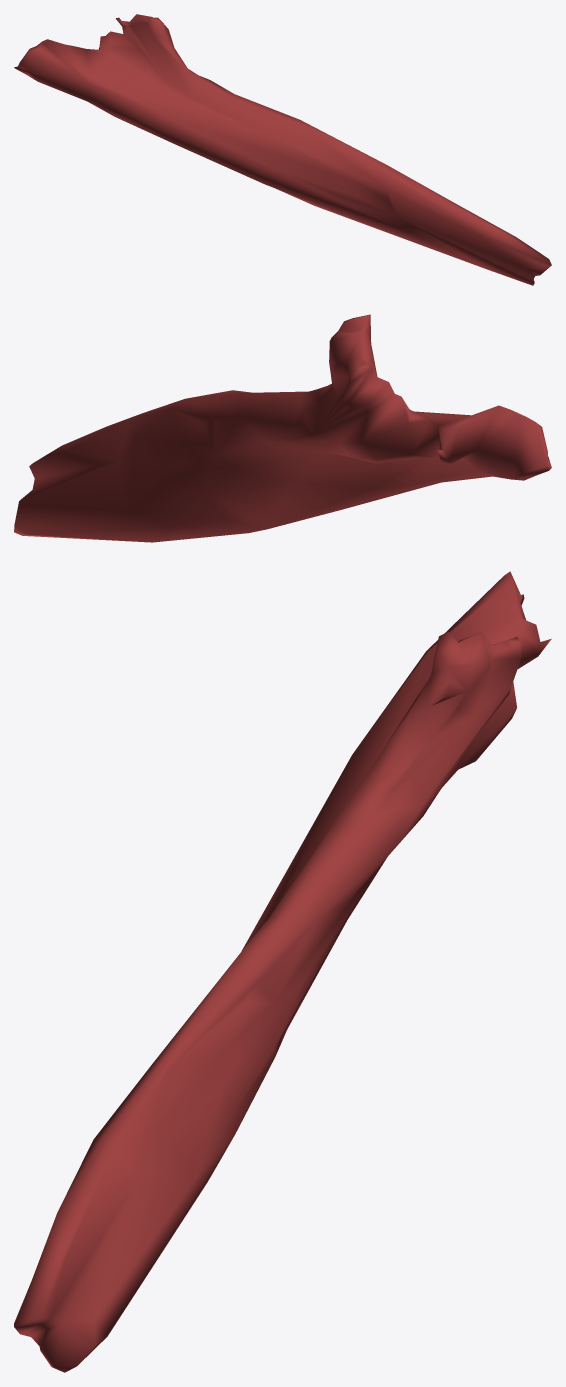
File: opponens-pollicis-muscle-l.glb
The picture shows the model from 3 angles, top to bottom: view 1: azimuth 30°, elevation 25°; view 2: azimuth 150°, elevation 25°; view 3: azimuth 270°, elevation 25°; orthographic projection. The views are drawn at different scales.
Visible parts, largest first — view 1: Opponens pollicis muscle.l; view 2: Opponens pollicis muscle.l; view 3: Opponens pollicis muscle.l.
Part boxes in pixels (x1,y1,x2,y2): Opponens pollicis muscle.l: (14, 14, 551, 285); Opponens pollicis muscle.l: (14, 314, 551, 542); Opponens pollicis muscle.l: (14, 571, 551, 1372).
Size of the model in its own units: 0.0463 by 0.0284 by 0.0287.
